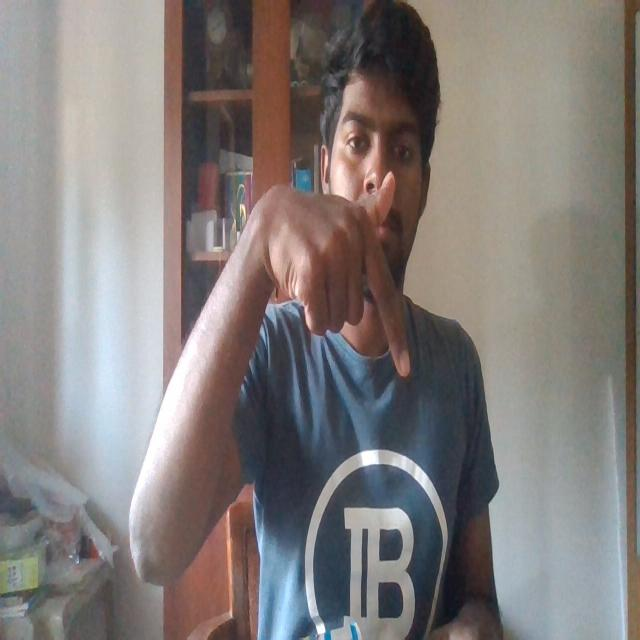Yes: (247, 151, 422, 407)
